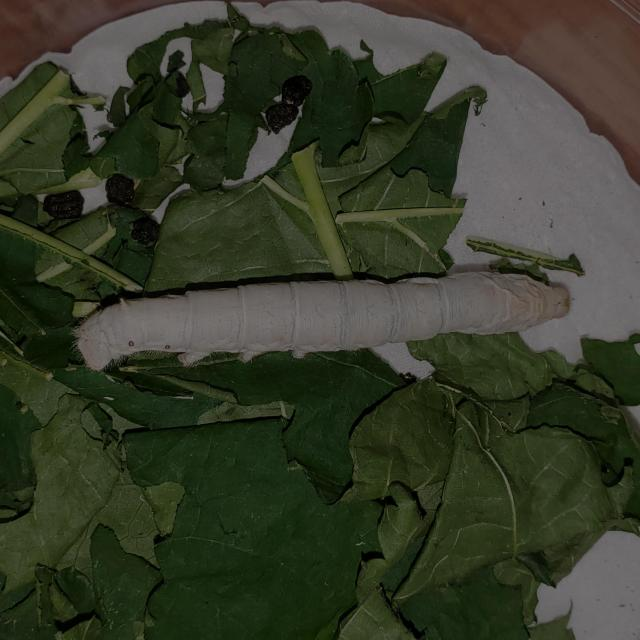Healthy: (64, 230, 592, 412)
